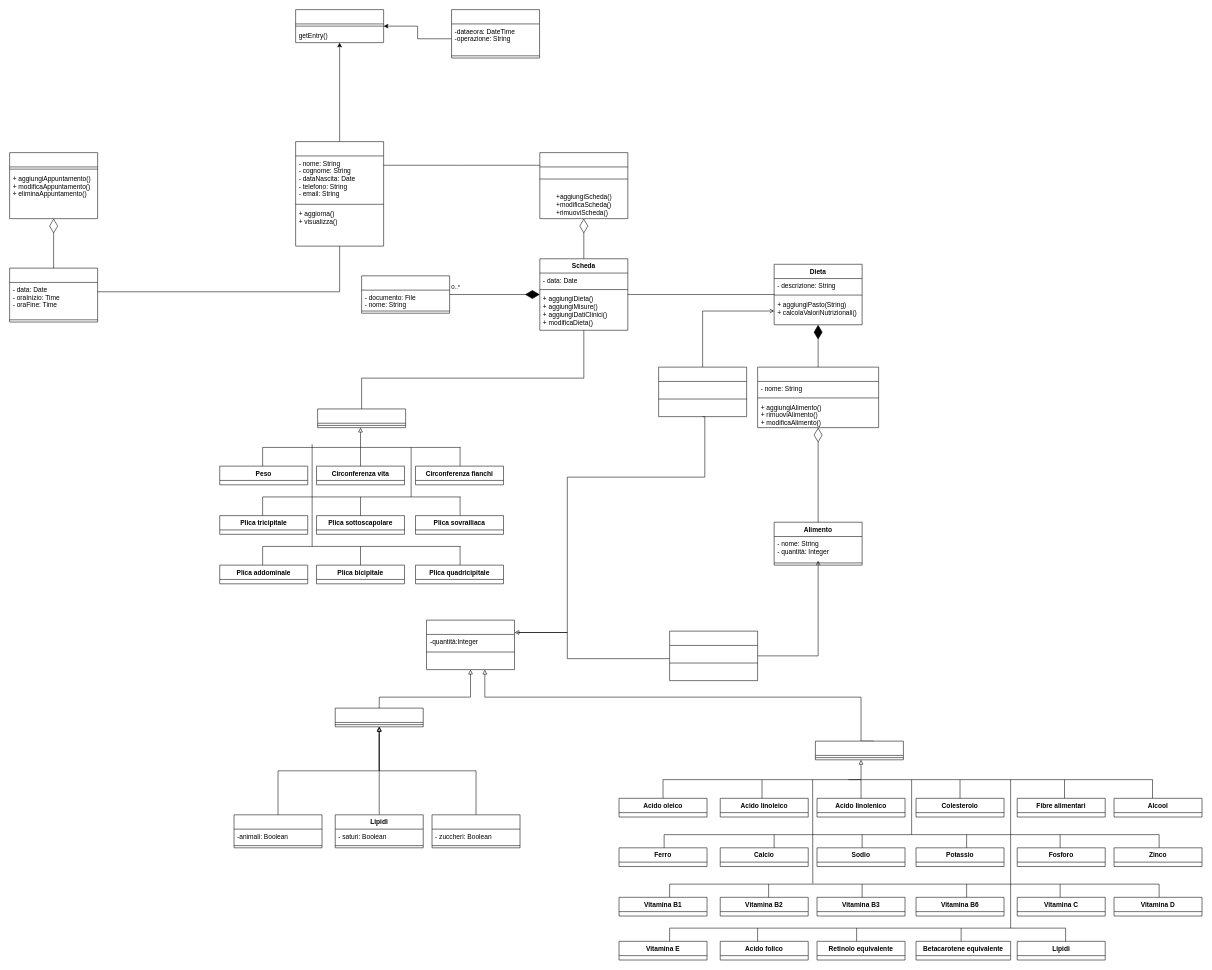
Some shapes in this 1212 by 970 pixel diagram are drawn without their labels. Here are the shapes that lost their labels. From the top down, the box of each, then its label:
(295, 9, 384, 43): Log
(451, 9, 540, 58): Entry
(9, 152, 98, 219): Agenda
(295, 141, 384, 246): Paziente
(539, 152, 628, 219): Storico
(9, 268, 98, 322): Appuntamento
(361, 275, 450, 313): DatiClinici
(658, 367, 747, 417): Soglia
(757, 367, 879, 428): Pasto
(317, 408, 406, 428): MisureAntropometriche
(426, 620, 515, 670): ValoriNutrizionali
(669, 631, 758, 681): Composizione
(335, 708, 423, 727): Macronutrienti
(815, 741, 903, 760): Micronutrienti
(233, 814, 322, 848): Proteine
(431, 814, 520, 848): Glucidi
